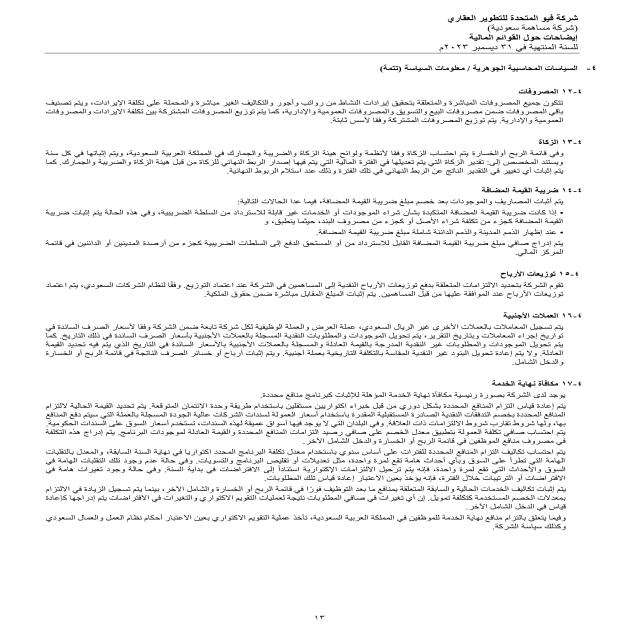notes: (468, 32, 583, 42)
text: (29, 62, 601, 541)
